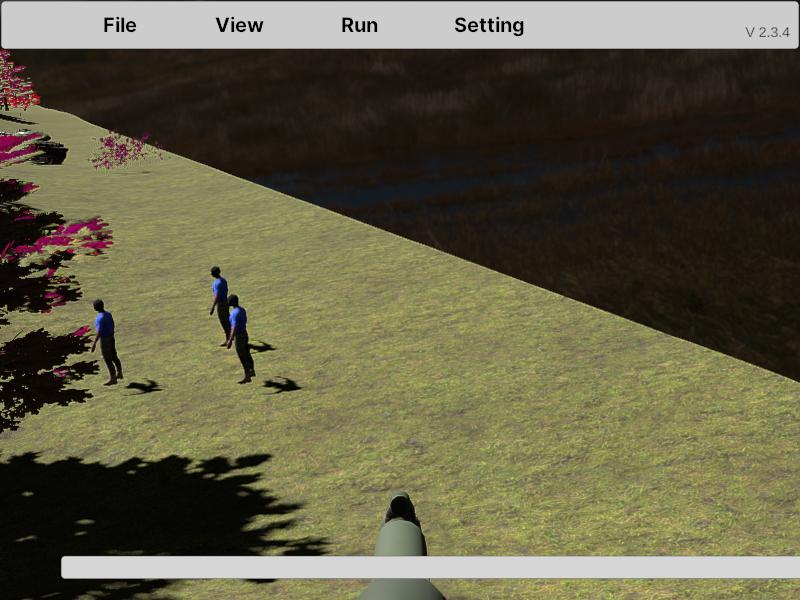Human: (91, 298, 123, 387), (92, 298, 124, 386), (228, 290, 256, 386), (209, 265, 232, 349)
